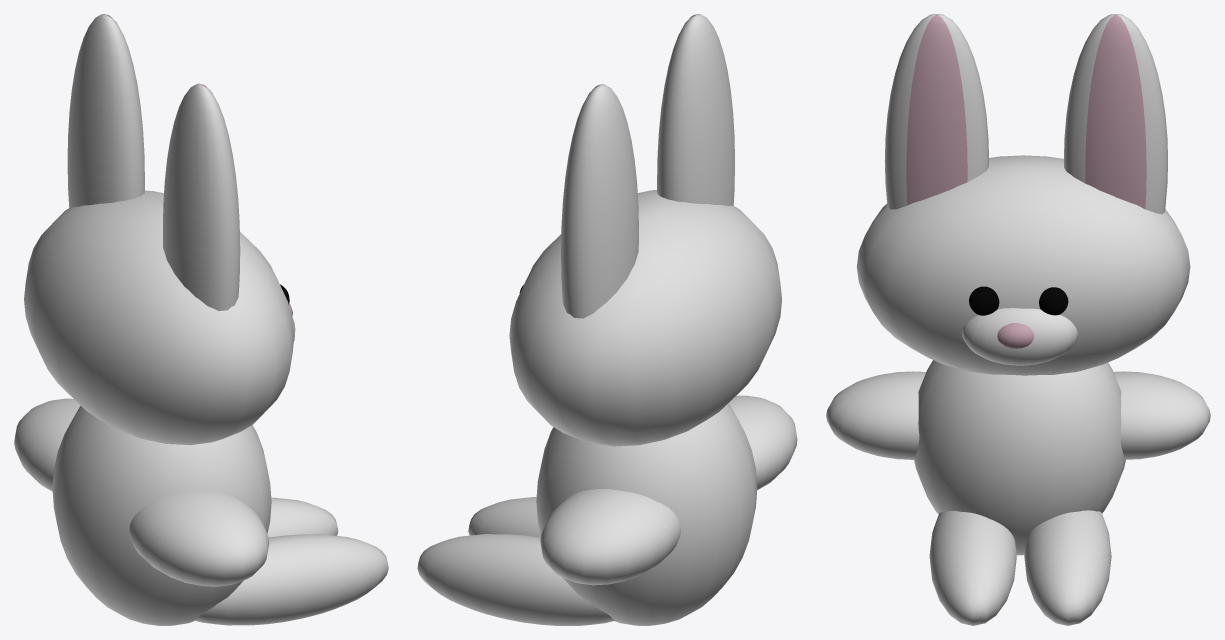
Rendered from Rabbit Plushie.fbx.
3 renders of one model, left to right at view 1: azimuth 30°, elevation 25°; view 2: azimuth 150°, elevation 25°; view 3: azimuth 270°, elevation 25°, orthographic. The views are drawn at different scales.
Visible parts, largest first — view 1: pSphere49, pSphere47, pSphere51, pSphere50, pSphere44, pSphere39, pSphere48, pSphere46; view 2: pSphere49, pSphere47, pSphere50, pSphere51, pSphere46, pSphere48, pSphere39, pSphere44; view 3: pSphere49, pSphere47, pSphere50, pSphere51, pSphere46, pSphere44, pSphere39, pSphere48, pSphere38, pSphere42, pSphere40, pSphere45.
Part boxes in pixels (<box>): pSphere49: <box>24,190,294,445</box>; pSphere47: <box>52,406,271,625</box>; pSphere51: <box>163,83,240,310</box>; pSphere50: <box>67,14,144,207</box>; pSphere44: <box>194,534,388,625</box>; pSphere39: <box>129,490,269,586</box>; pSphere48: <box>14,398,80,491</box>; pSphere46: <box>267,497,338,537</box>; pSphere49: <box>509,190,781,446</box>; pSphere47: <box>536,403,757,625</box>; pSphere50: <box>561,84,638,318</box>; pSphere51: <box>657,14,734,205</box>; pSphere46: <box>417,534,614,625</box>; pSphere48: <box>540,489,680,585</box>; pSphere39: <box>728,395,797,489</box>; pSphere44: <box>468,497,540,537</box>; pSphere49: <box>856,155,1190,375</box>; pSphere47: <box>914,360,1125,555</box>; pSphere50: <box>1064,14,1167,214</box>; pSphere51: <box>884,14,988,209</box>; pSphere46: <box>1024,510,1111,625</box>; pSphere44: <box>929,511,1016,625</box>; pSphere39: <box>826,371,926,459</box>; pSphere48: <box>1113,371,1210,459</box>; pSphere38: <box>962,308,1077,365</box>; pSphere42: <box>997,323,1034,348</box>; pSphere40: <box>969,286,999,315</box>; pSphere45: <box>1039,287,1068,315</box>.
Bounding box in the file's own units: 4.6 × 8.26 × 5.37.
